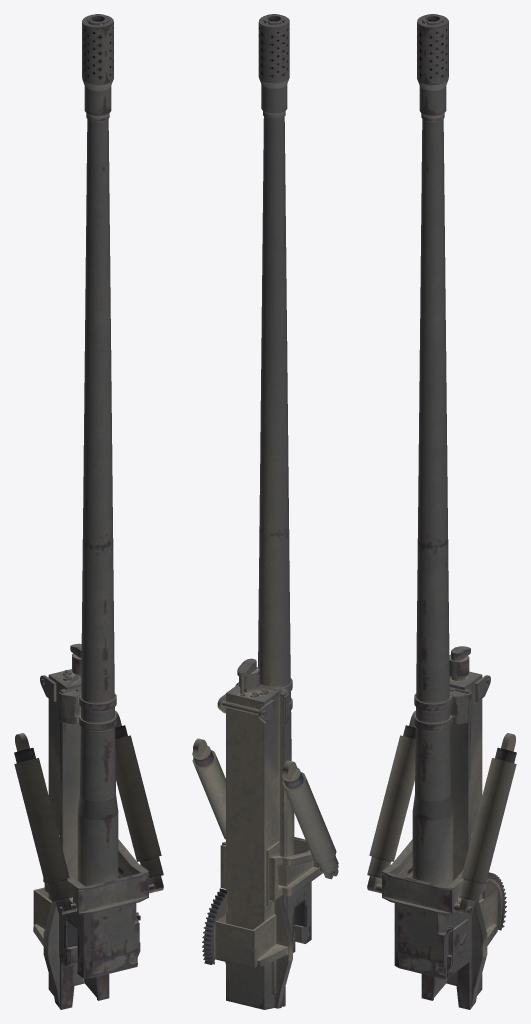
The model's file is Gun_02.glb.
3 renders of one model, left to right at view 1: azimuth 30°, elevation 25°; view 2: azimuth 150°, elevation 25°; view 3: azimuth 330°, elevation 25°, orthographic. The views are drawn at different scales.
Visible parts, largest first — view 1: set_0_group_0, set_0_group_1; view 2: set_0_group_0, set_0_group_1; view 3: set_0_group_0, set_0_group_1.
Part boxes in pixels (<box>): set_0_group_0: <box>14,14,163,1009</box>; set_0_group_1: <box>14,710,163,912</box>; set_0_group_0: <box>194,14,338,1009</box>; set_0_group_1: <box>192,738,338,879</box>; set_0_group_0: <box>367,14,516,1009</box>; set_0_group_1: <box>367,710,516,912</box>.
Bounding box in the file's own units: 1.12 × 9.33 × 1.16.
Materials: 2 (2 with a texture image).
